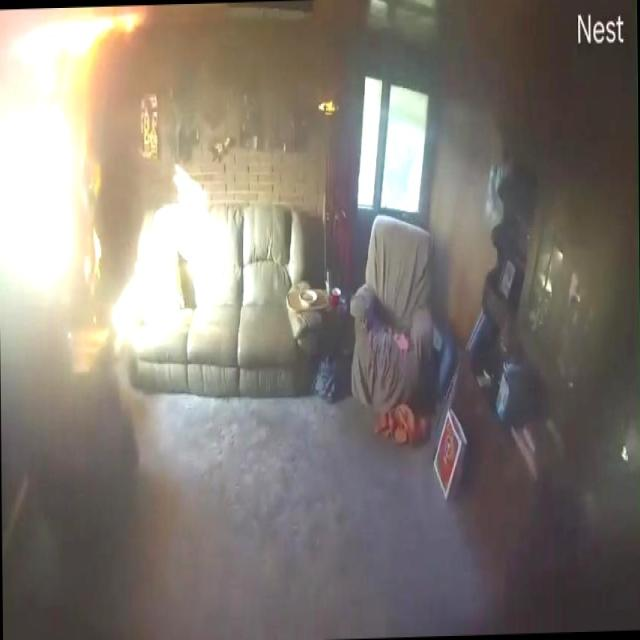fire: (0, 7, 149, 294)
